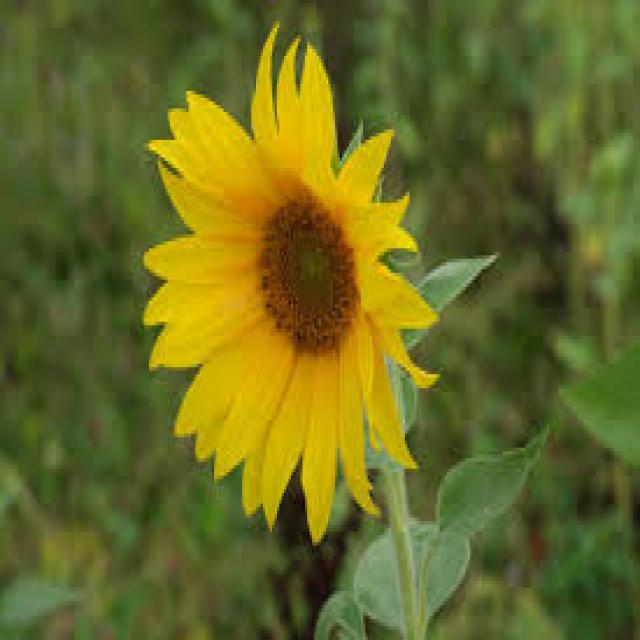sunflower: (138, 11, 452, 555)
